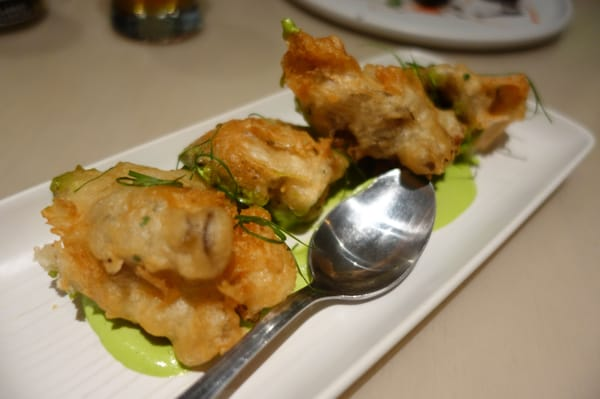burger: (180, 164, 437, 397)
pizza: (108, 1, 206, 41)
